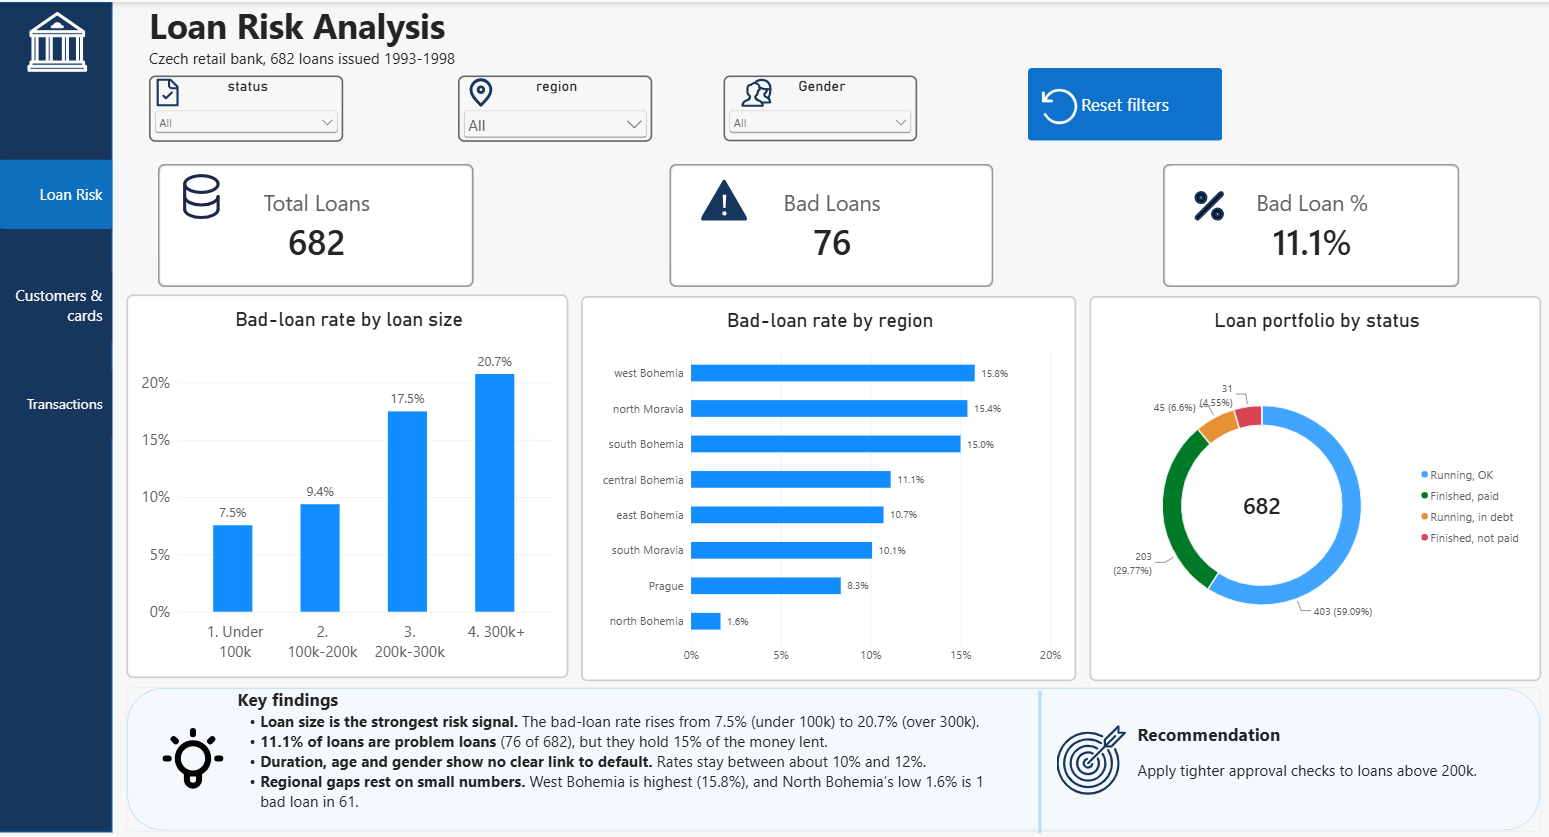

This screenshot's page, from the dashboard's own definition file:
{"tool":"powerbi","page":{"name":"Loan Risk","canvas":[1920,1080],"ordinal":0},"visuals":[{"type":"cardVisual","fields":{"Data":["Loans.Bad Loans"]},"box":[828,200,400,152],"z":0},{"type":"cardVisual","fields":{"Data":["Loans.Bad Loan %"]},"box":[1438,200,366,152],"z":1000},{"type":"cardVisual","fields":{"Data":["Loans.Total Loans"]},"box":[196,200,390,152],"z":2000},{"type":"clusteredColumnChart","title":"Bad-loan rate by loan size","fields":{"Category":["Loans.amount_band"],"Y":["Loans.Bad Loan %"]},"box":[158,362,546,474],"z":3000},{"type":"clusteredBarChart","title":"Bad-loan rate by region","fields":{"Category":["Loans.region"],"Y":["Loans.Bad Loan %"]},"box":[720,364,612,476],"z":4000},{"type":"donutChart","title":"Loan portfolio by status","fields":{"Category":["Loans.status"],"Y":["Loans.Total Loans"]},"box":[1348,364,558,476],"z":5000},{"type":"slicer","title":"region","fields":{"Values":["Regions.region"]},"box":[568,90,240,82],"z":6000},{"type":"slicer","title":"Gender","fields":{"Values":["Loans.gender"]},"box":[895.3,90.8,239.1,81.6],"z":7000},{"type":"slicer","title":"status","fields":{"Values":["Loans.status"]},"box":[186,90,240,82],"z":8000},{"type":"actionButton","box":[1272,82,240,90],"z":9000},{"type":"shape","box":[0,0,140,1026],"z":10000},{"type":"textbox","box":[186,0,726,104],"z":11000},{"type":"image","box":[16,10,110,80],"z":12000},{"type":"image","box":[1454,216,84,70],"z":13000},{"type":"image","box":[852,216,86,56],"z":14000},{"type":"image","box":[206,210,88,62],"z":15000},{"type":"shape","box":[158,848,1748,178],"z":16000},{"type":"textbox","box":[294,848,934,178],"z":17000},{"type":"shape","box":[1226,850,122,176],"z":18000},{"type":"image","box":[186,890,108,90],"z":19000},{"type":"textbox","box":[1406,890,474,90],"z":20000},{"type":"image","box":[1306,882,86,108],"z":21000},{"type":"actionButton","box":[0,194,140,86],"z":22000},{"type":"actionButton","box":[0,454,140,86],"z":23000},{"type":"actionButton","box":[0,329.9,140,90],"z":24000},{"type":"image","box":[1274,100,74,58],"z":25000},{"type":"image","box":[912,90.8,48.2,42.6],"z":26000},{"type":"image","box":[568,90,56,42],"z":27000},{"type":"image","box":[186,90,46,42],"z":28000}]}

Visuals, with their boxes on the page's 1920x1080 design canvas (x1, y1, x2, y2). These are canvas units, not pixel positions in the 1549x837 screenshot, which may show the page scaled, cropped or inside an application window:
cardVisual - Loans.Bad Loans: x1=828 y1=200 x2=1228 y2=352
cardVisual - Loans.Bad Loan %: x1=1438 y1=200 x2=1804 y2=352
cardVisual - Loans.Total Loans: x1=196 y1=200 x2=586 y2=352
"Bad-loan rate by loan size" clusteredColumnChart: x1=158 y1=362 x2=704 y2=836
"Bad-loan rate by region" clusteredBarChart: x1=720 y1=364 x2=1332 y2=840
"Loan portfolio by status" donutChart: x1=1348 y1=364 x2=1906 y2=840
"region" slicer: x1=568 y1=90 x2=808 y2=172
"Gender" slicer: x1=895 y1=91 x2=1134 y2=172
"status" slicer: x1=186 y1=90 x2=426 y2=172
actionButton: x1=1272 y1=82 x2=1512 y2=172
shape: x1=0 y1=0 x2=140 y2=1026
textbox: x1=186 y1=0 x2=912 y2=104
image: x1=16 y1=10 x2=126 y2=90
image: x1=1454 y1=216 x2=1538 y2=286
image: x1=852 y1=216 x2=938 y2=272
image: x1=206 y1=210 x2=294 y2=272
shape: x1=158 y1=848 x2=1906 y2=1026
textbox: x1=294 y1=848 x2=1228 y2=1026
shape: x1=1226 y1=850 x2=1348 y2=1026
image: x1=186 y1=890 x2=294 y2=980
textbox: x1=1406 y1=890 x2=1880 y2=980
image: x1=1306 y1=882 x2=1392 y2=990
actionButton: x1=0 y1=194 x2=140 y2=280
actionButton: x1=0 y1=454 x2=140 y2=540
actionButton: x1=0 y1=330 x2=140 y2=420
image: x1=1274 y1=100 x2=1348 y2=158
image: x1=912 y1=91 x2=960 y2=133
image: x1=568 y1=90 x2=624 y2=132
image: x1=186 y1=90 x2=232 y2=132
